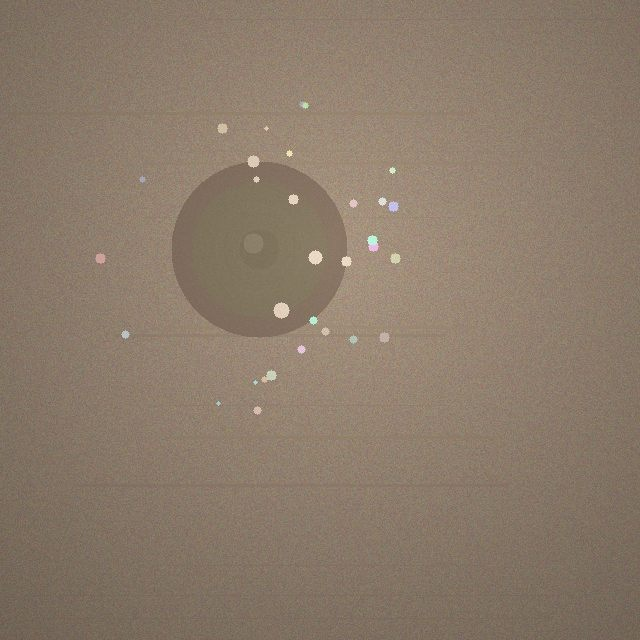overburn: (171, 161, 347, 337)
